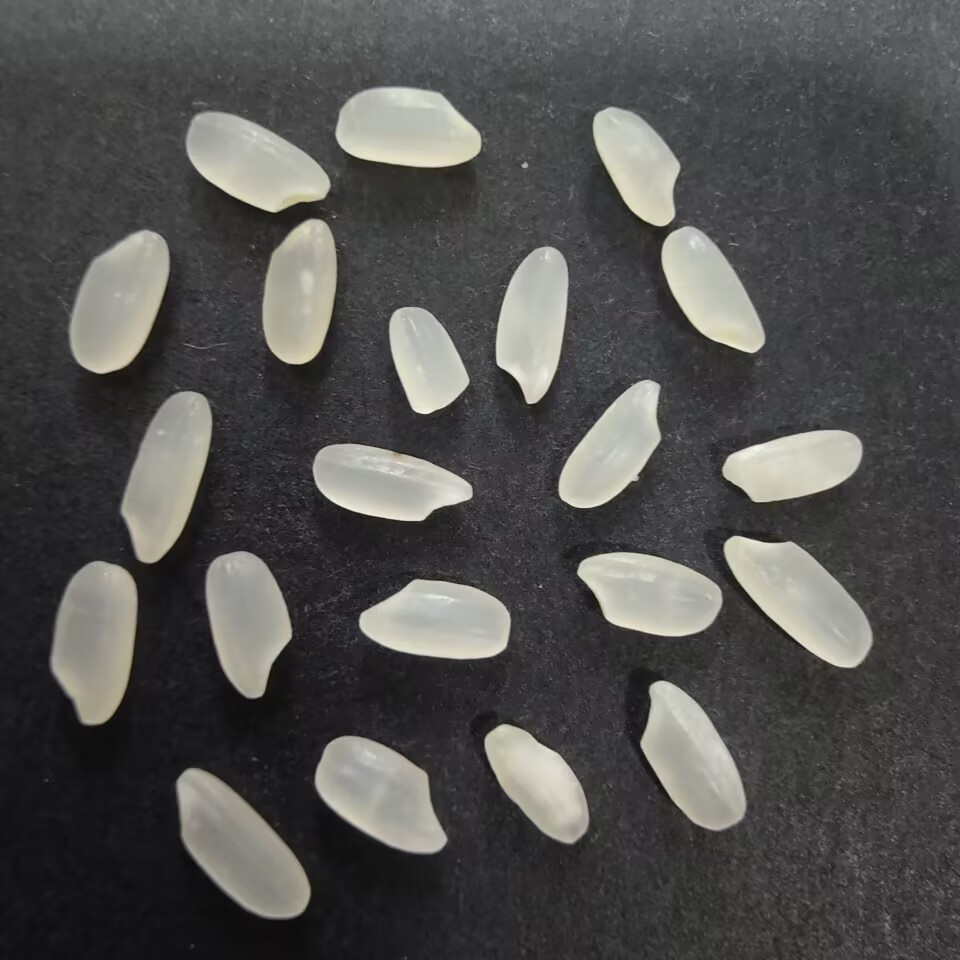broken: (385, 299, 472, 417)
rice: (167, 764, 316, 925), (718, 531, 876, 674), (635, 678, 753, 837), (117, 385, 215, 568), (311, 733, 451, 858), (181, 107, 335, 216), (45, 551, 138, 731), (64, 225, 172, 377), (658, 219, 771, 358), (553, 374, 666, 512), (479, 720, 596, 853), (307, 441, 478, 530), (488, 240, 577, 408), (353, 573, 516, 662), (572, 550, 730, 640), (328, 83, 485, 172), (203, 548, 292, 700), (259, 218, 341, 367), (590, 102, 682, 232), (717, 427, 868, 504)
